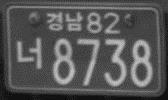2: (103, 11, 121, 34)
3: (104, 38, 128, 87)
7: (76, 37, 101, 85)
8: (130, 38, 153, 88), (52, 37, 75, 84), (86, 11, 102, 34)
경남_O: (45, 10, 83, 31)
너: (15, 36, 43, 70)
